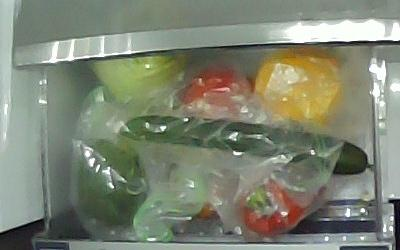apple_vinyl: (183, 71, 255, 122)
broccoli_vinyl: (79, 139, 151, 229)
cucumber_vinyl: (119, 116, 375, 174)
grapefruit_vinyl: (253, 46, 344, 125)
lettuce_vinyl: (90, 50, 187, 102)
paprika_vinyl: (243, 180, 305, 236)
